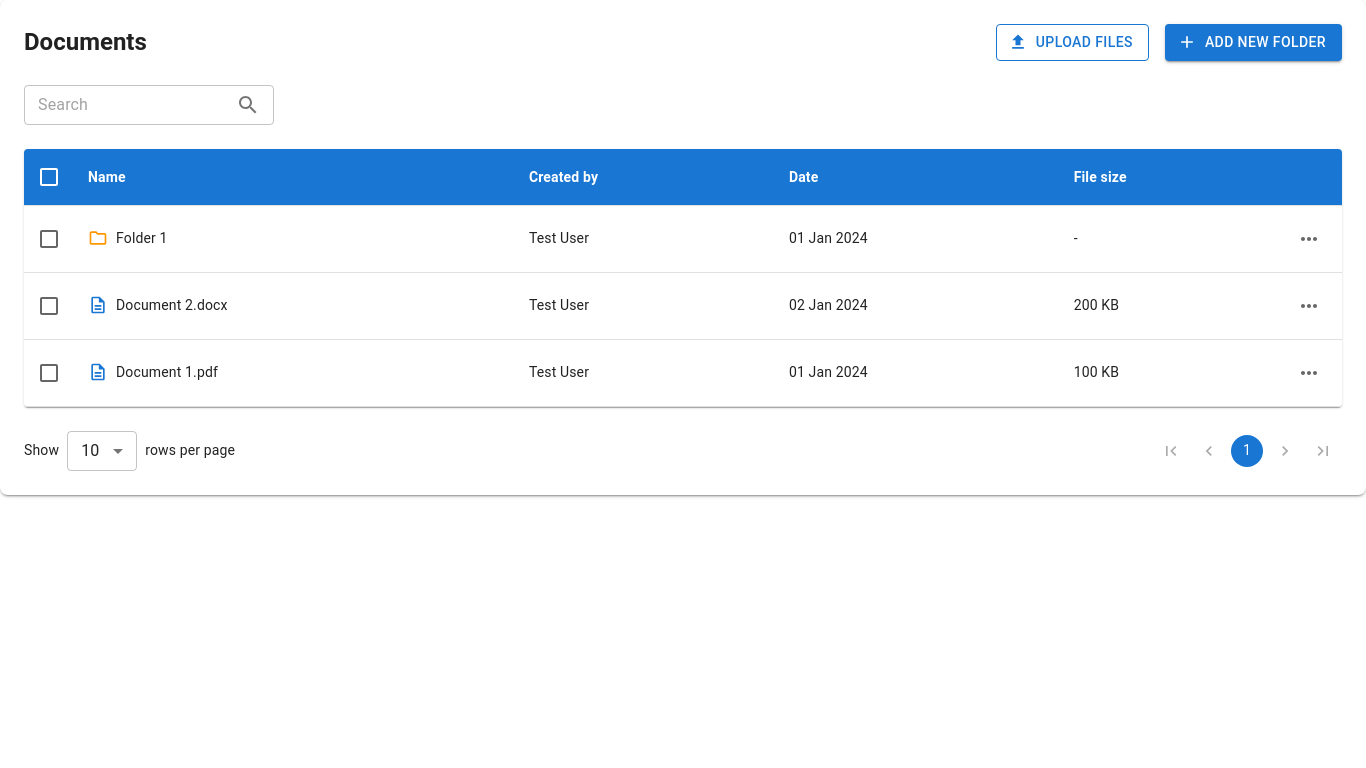
Test case: DocumentListing › should open delete folder modal when folder delete is clicked
The image size is (1366, 768).
Expected: the text "Folder 1" is shown, left=116, top=228, right=168, bottom=248
Click the button named "actions for folder".
click(1309, 238)  # box left=1292, top=222, right=1326, bottom=256
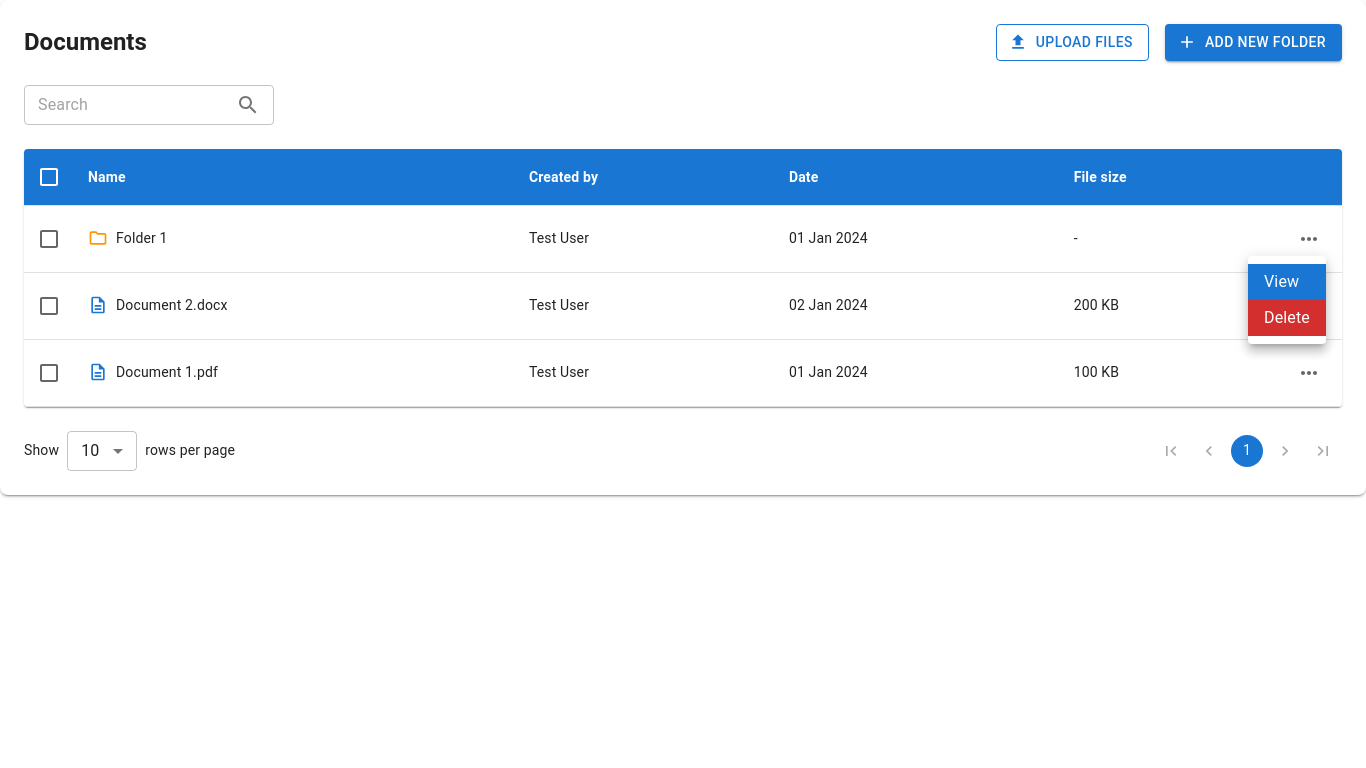
Click the menu item "Delete".
click(1287, 318)  # box left=1248, top=300, right=1326, bottom=336
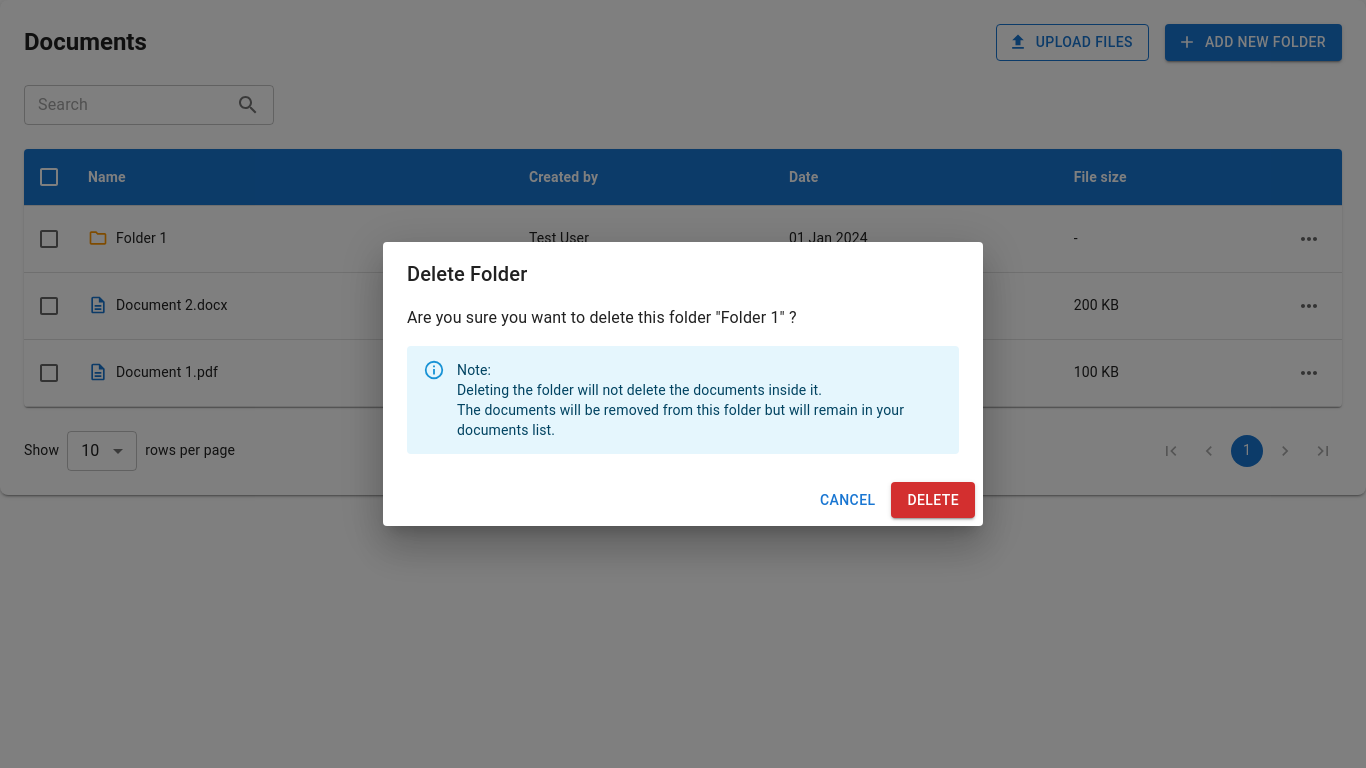
Now the element with test id "delete-folder-modal" is shown
